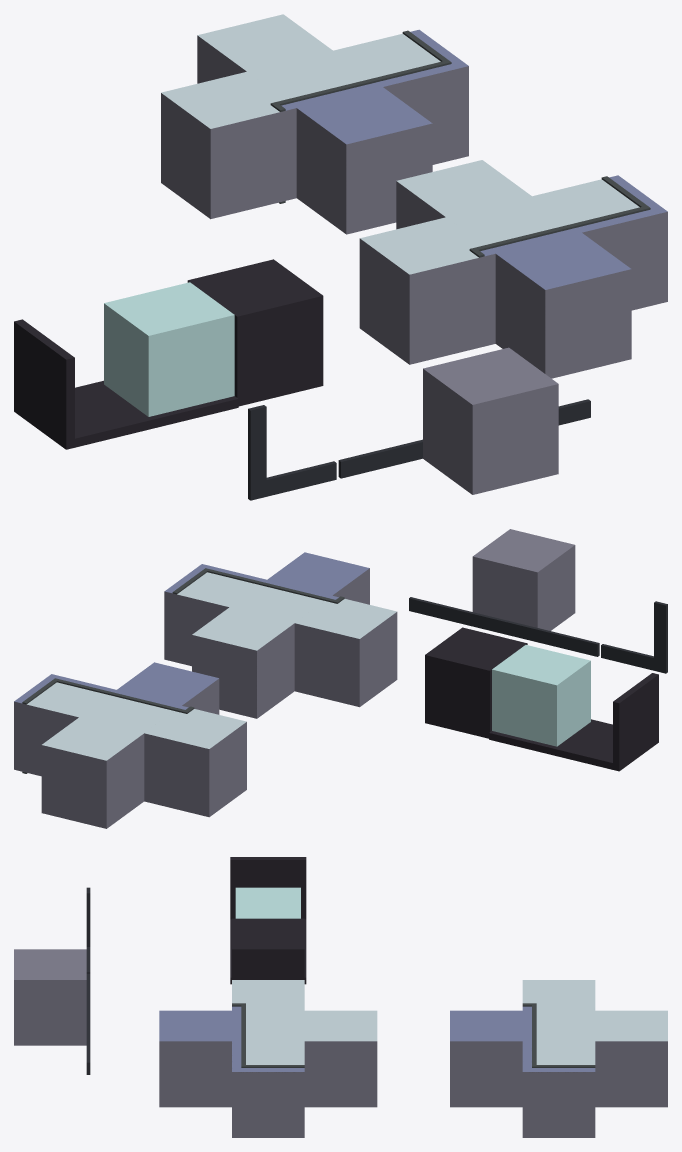
Rendered from spaceshipTiles.fbx.
3 renders of one model, top to bottom at view 1: azimuth 30°, elevation 25°; view 2: azimuth 150°, elevation 25°; view 3: azimuth 270°, elevation 25°, orthographic. The views are drawn at different scales.
Parts seen in each view (by area): view 1: FloorOuterCorner, FloorOuterCorner2Sided, WallMiddle, FloorOutside, FloorOutside2Sided, Glass, GlassFrameColumn, GlassFrameCorner, FloorInnerCorner, FloorInnerCorner2Sided, FloorMiddle2Sided, FloorMiddle (+5 smaller); view 2: FloorOuterCorner, FloorMiddle2Sided, FloorOuterCorner2Sided, WallMiddle, FloorMiddle, Glass, GlassFrameColumn, GlassFrameCorner, FloorInnerCorner, FloorInnerCorner2Sided, FloorOutside2Sided, FloorOutside (+7 smaller); view 3: FloorMiddle, FloorInnerCorner2Sided, FloorMiddle2Sided, FloorOutside, FloorOutside2Sided, FloorInnerCorner, WallMiddle, GlassFrameColumn, GlassFrameCorner, FloorSide2Sided, FloorSide, FloorOuterCorner2Sided (+3 smaller).
Boxes of the visible parts, <box> form: FloorOuterCorner: <box>359,217,495,364</box>; FloorOuterCorner2Sided: <box>161,71,296,219</box>; WallMiddle: <box>423,347,558,494</box>; FloorOutside: <box>495,232,631,378</box>; FloorOutside2Sided: <box>296,87,432,234</box>; Glass: <box>104,282,234,416</box>; GlassFrameColumn: <box>187,259,323,406</box>; GlassFrameCorner: <box>14,319,152,449</box>; FloorInnerCorner: <box>532,175,667,310</box>; FloorInnerCorner2Sided: <box>333,29,468,164</box>; FloorMiddle2Sided: <box>197,14,332,83</box>; FloorMiddle: <box>396,160,531,229</box>; FloorOuterCorner: <box>294,595,397,707</box>; FloorMiddle2Sided: <box>41,717,144,828</box>; FloorOuterCorner2Sided: <box>144,706,246,817</box>; WallMiddle: <box>472,529,575,630</box>; FloorMiddle: <box>192,607,294,718</box>; Glass: <box>492,645,590,746</box>; GlassFrameColumn: <box>425,627,527,738</box>; GlassFrameCorner: <box>554,673,658,771</box>; FloorInnerCorner: <box>164,564,266,666</box>; FloorInnerCorner2Sided: <box>14,674,115,776</box>; FloorOutside2Sided: <box>117,662,219,714</box>; FloorOutside: <box>267,552,369,604</box>; FloorMiddle: <box>304,1010,377,1107</box>; FloorInnerCorner2Sided: <box>522,1040,595,1137</box>; FloorMiddle2Sided: <box>595,1010,667,1107</box>; FloorOutside: <box>159,1010,231,1107</box>; FloorOutside2Sided: <box>450,1010,522,1107</box>; FloorInnerCorner: <box>232,1040,304,1137</box>; WallMiddle: <box>14,949,86,1045</box>; GlassFrameColumn: <box>232,918,304,979</box>; GlassFrameCorner: <box>230,857,306,946</box>; FloorSide2Sided: <box>522,1009,595,1041</box>; FloorSide: <box>232,1009,304,1041</box>; FloorOuterCorner2Sided: <box>522,980,595,1010</box>.
Bounding box in the file's own units: 700 × 104 × 900.
4 materials, 1 textured.
